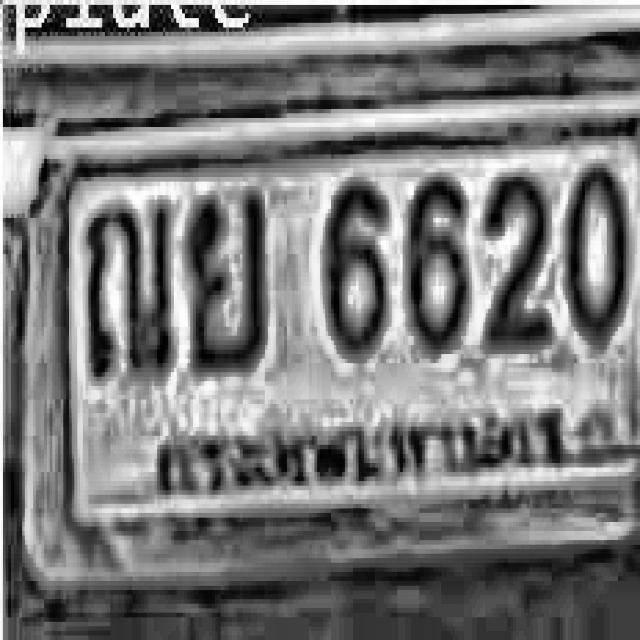license-plate: (22, 86, 640, 558)
